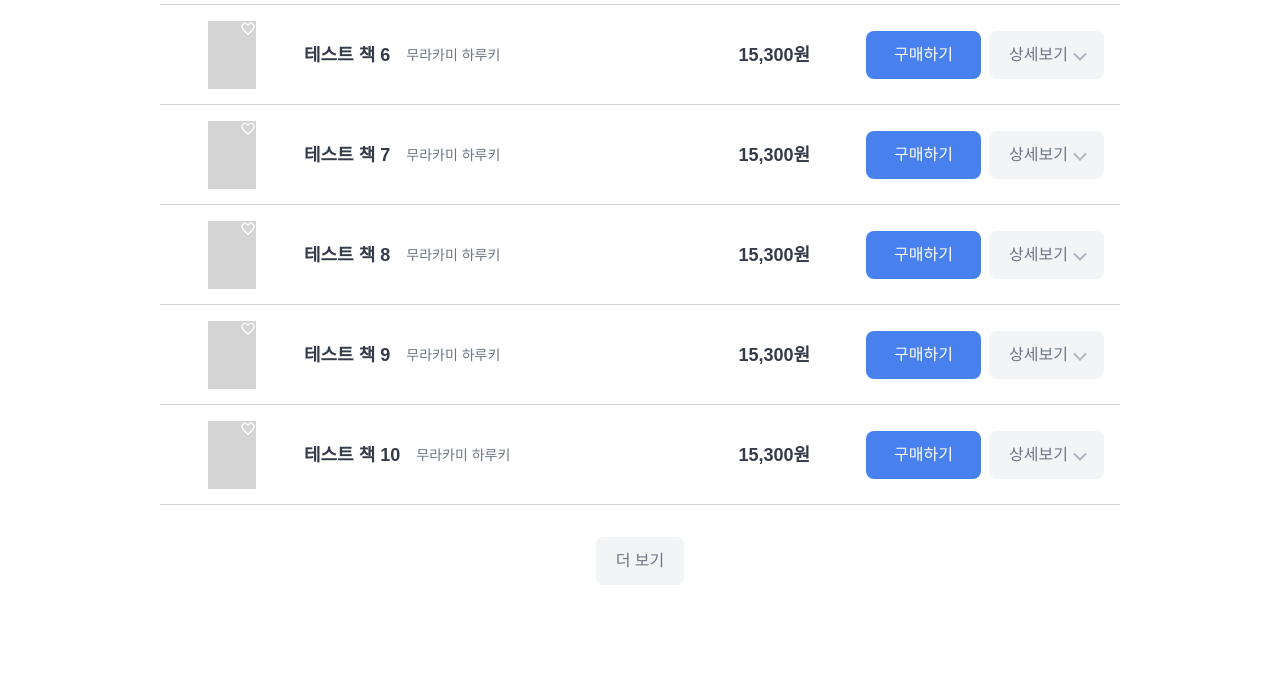
Test: 도서 검색 결과 › 다음 목록을 불러오지 못하면 받은 목록은 그대로 두고 다시 시도할 수 있다
(page scrolled)
Click the button "더 보기": (640, 561) x1=596 y1=537 x2=684 y2=585
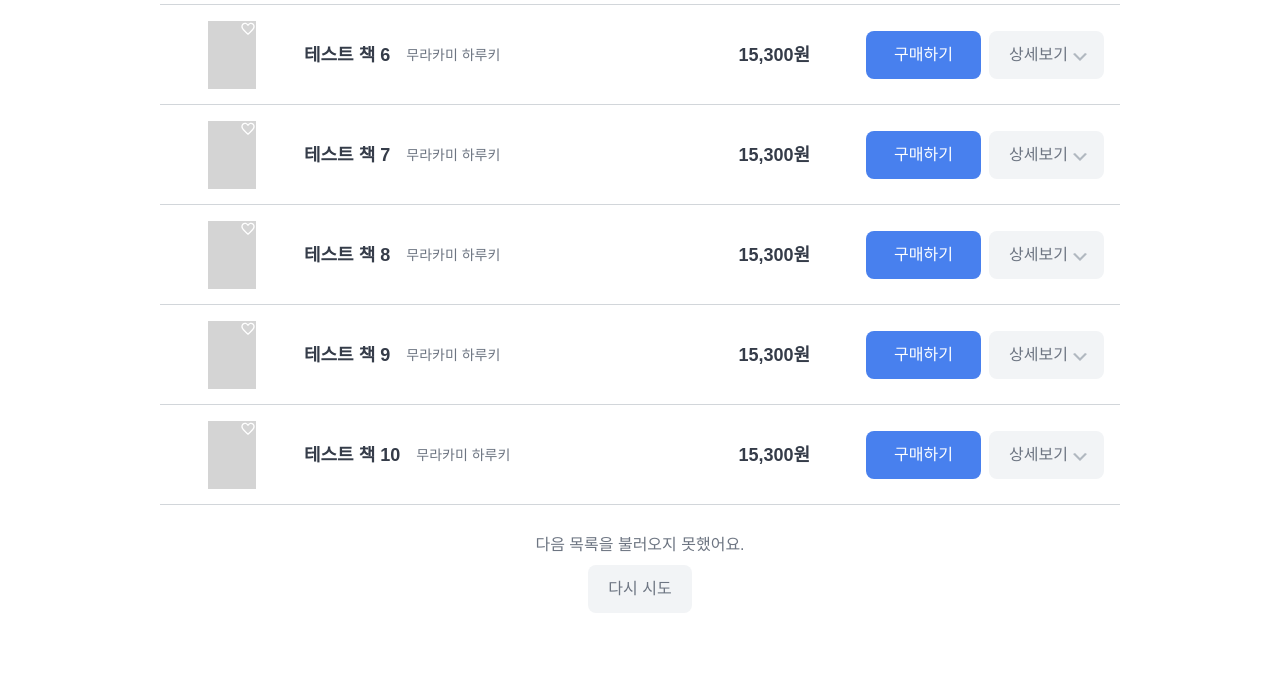
Expected: the message shows "다음 목록을 불러오지 못했어요.", x1=535 y1=536 x2=745 y2=553
Click the button "다시 시도": (640, 589) x1=588 y1=565 x2=692 y2=613
(page scrolled)
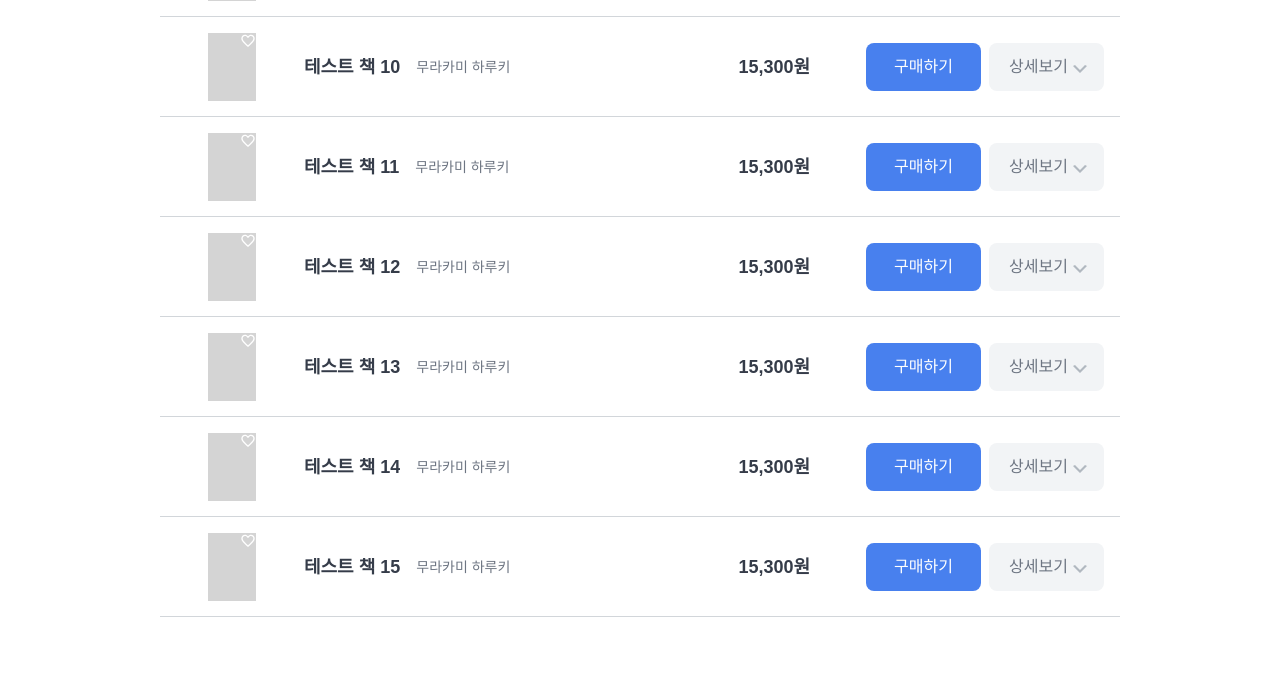
Expected: the heading "테스트 책 15" is shown, x1=304 y1=558 x2=400 y2=576
